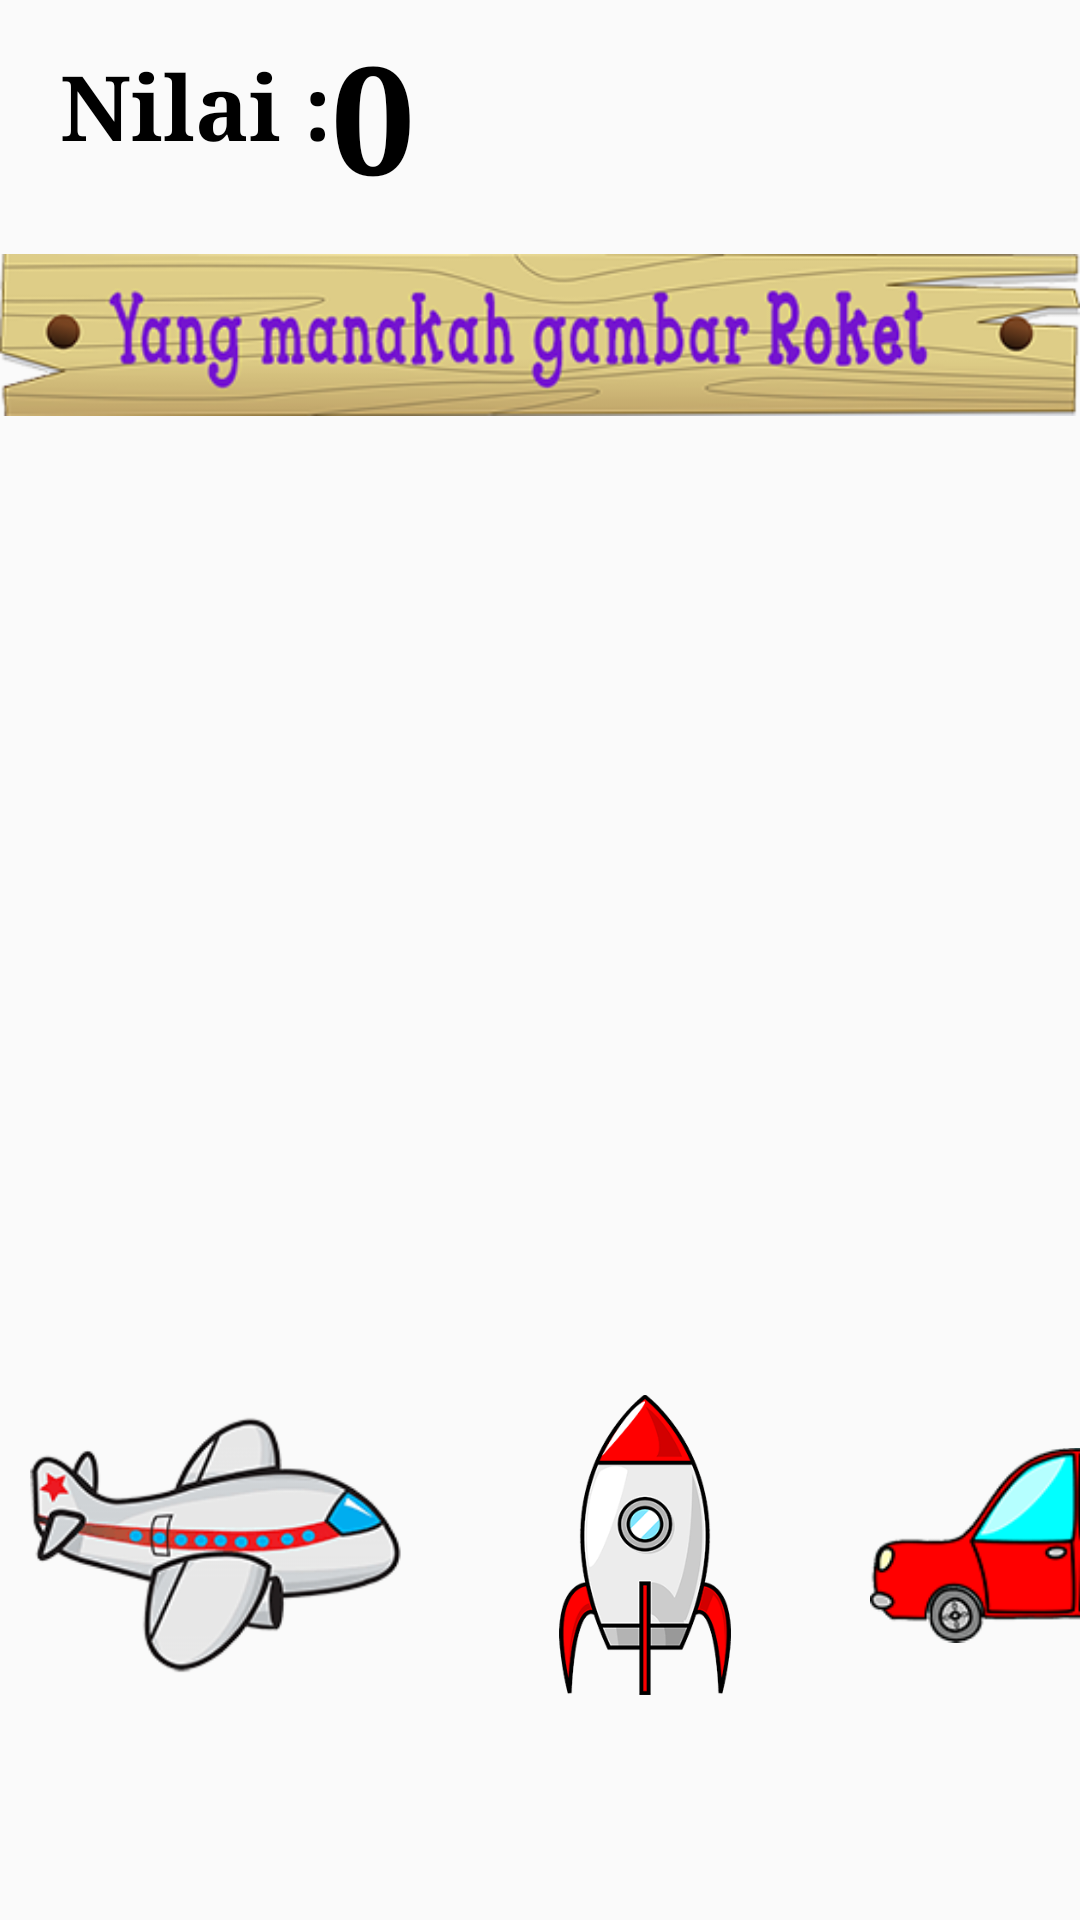

Where to tap for icons on this 1080 x 1920 app screen, as point (x, y):
roket: point (645, 1545)
